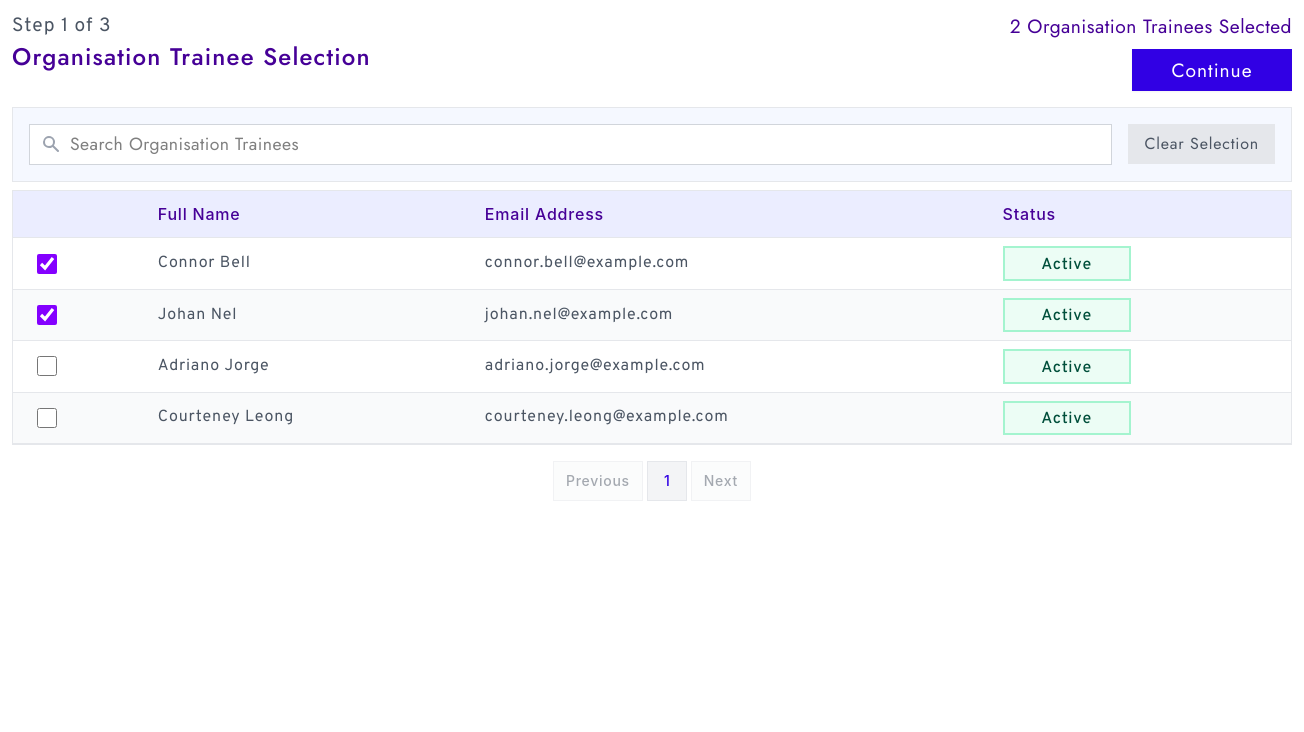
Scenario: OrganisationTraineeSelectionPage › clears multiple selected trainees
Expected: the text "2 Organisation Trainees Selected" is shown, [1010,12,1292,41]
Expected: the checkbox next to "Connor Bell" is checked, [37,254,57,274]
Click the button "Clear Selection" at (1202, 144), box [1128,124,1275,164]
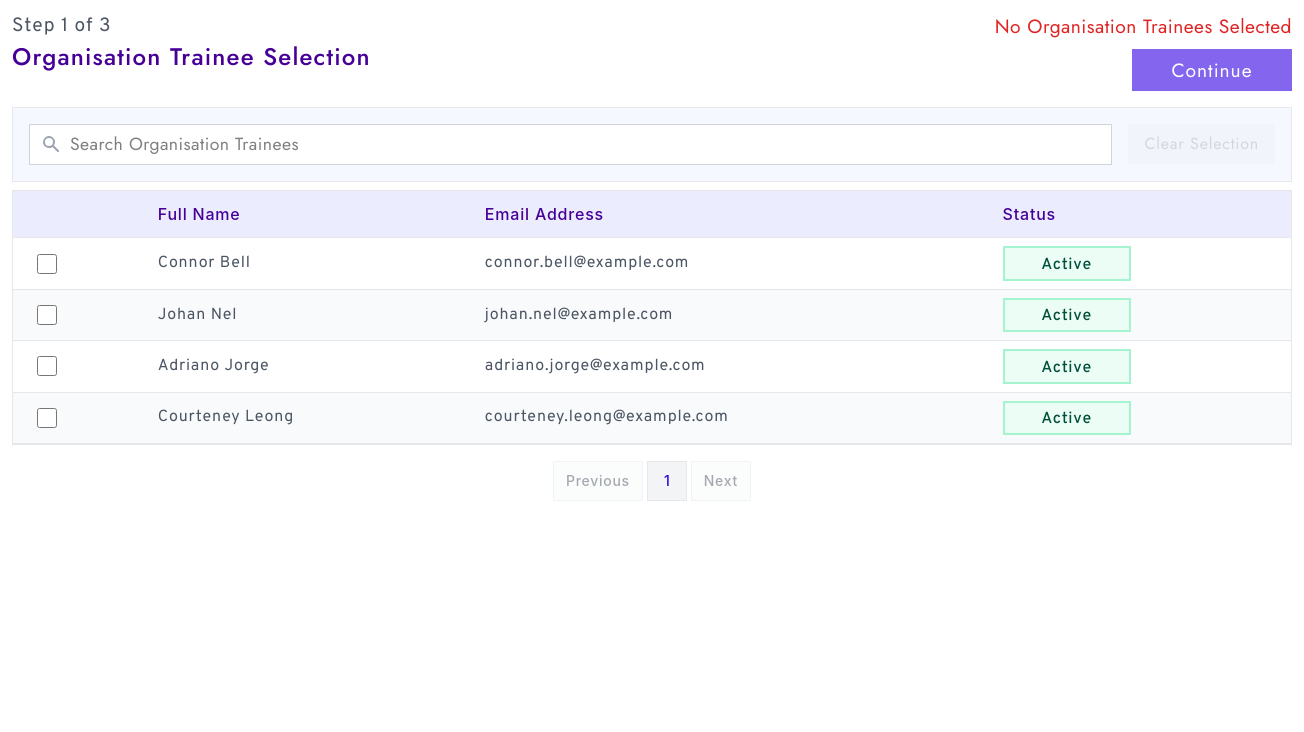
Result: the text "No Organisation Trainees Selected" is shown at [995,12,1292,41]
Result: the checkbox next to "Connor Bell" is not checked at [37,254,57,274]
Result: the checkbox next to "Johan Nel" is not checked at [37,305,57,325]
